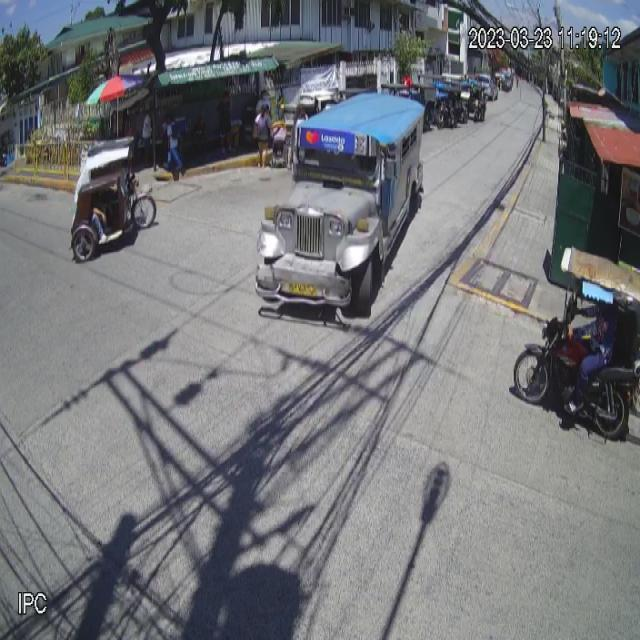Jeep: (254, 94, 424, 319)
Tricycle: (513, 245, 640, 438), (69, 135, 157, 263)
